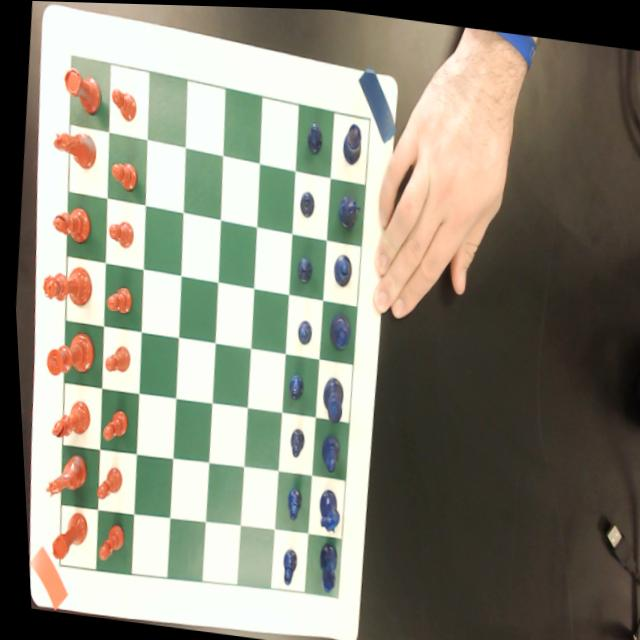B: (312, 431, 338, 474), (328, 250, 351, 286)
K: (314, 374, 341, 424)
N: (309, 485, 338, 535), (333, 191, 361, 230)
P: (273, 545, 293, 586), (278, 484, 299, 520), (303, 119, 323, 154), (281, 370, 302, 401), (295, 188, 315, 219), (283, 426, 301, 458), (292, 254, 311, 283), (292, 316, 311, 343)
Q: (322, 309, 350, 352)
R: (309, 539, 335, 594), (338, 119, 363, 165)
b: (45, 396, 88, 441), (47, 202, 91, 245)
k: (39, 326, 94, 380)
n: (38, 450, 85, 502), (48, 127, 97, 171)
p: (91, 520, 120, 563), (89, 464, 120, 503), (107, 84, 138, 123), (106, 157, 138, 192), (96, 406, 124, 443), (100, 284, 131, 315), (103, 219, 133, 249), (99, 343, 128, 374)
q: (37, 262, 91, 308)
r: (59, 65, 106, 116), (43, 508, 84, 564)
